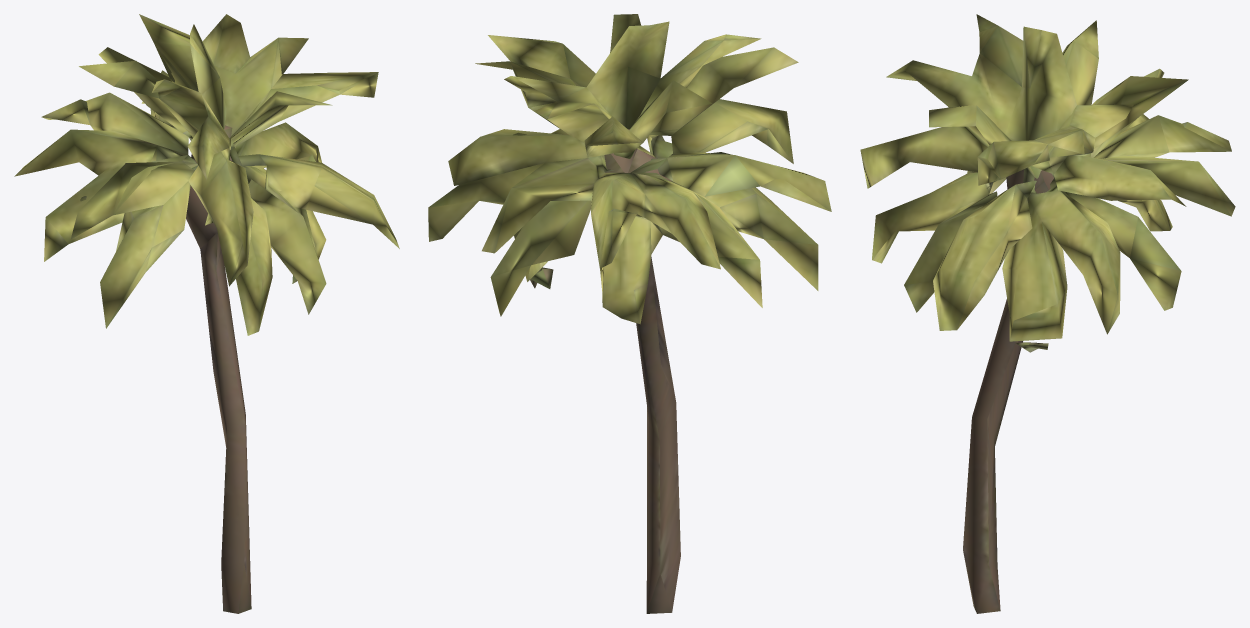
File: palm_a_far.glb
3 views of the same model, side by side, from view 1: azimuth 30°, elevation 25°; view 2: azimuth 150°, elevation 25°; view 3: azimuth 270°, elevation 25° (orthographic). The views are drawn at different scales.
Parts seen in each view (by area): view 1: body; view 2: body; view 3: body.
Part boxes in pixels (box(x1,y1,x2,y2)): body: box(14, 14, 399, 613); body: box(428, 14, 831, 613); body: box(860, 14, 1235, 613).
Bounding box in the file's own units: 4.88 × 8.36 × 4.97.
2 materials, 2 textured.
